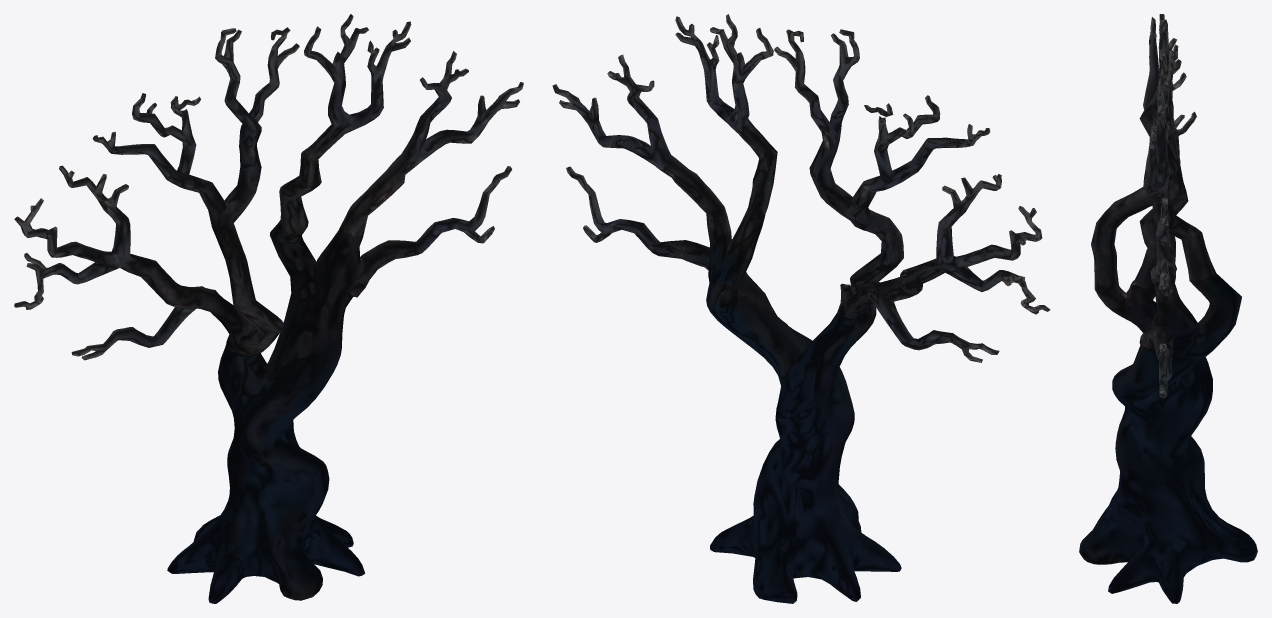
File: spooky_tree.glb
3 renders of one model, left to right at view 1: azimuth 30°, elevation 25°; view 2: azimuth 150°, elevation 25°; view 3: azimuth 270°, elevation 25°, orthographic. The views are drawn at different scales.
Parts seen in each view (by area): view 1: bdec_vubujz0r.glb; view 2: bdec_vubujz0r.glb; view 3: bdec_vubujz0r.glb.
Part boxes in pixels (box(x1,y1,x2,y2)): bdec_vubujz0r.glb: box(14, 14, 523, 603); bdec_vubujz0r.glb: box(552, 14, 1050, 603); bdec_vubujz0r.glb: box(1079, 14, 1257, 603).
Bounding box in the file's own units: 0.9327 × 0.9732 × 0.2986.
Materials: 1 (1 with a texture image).
